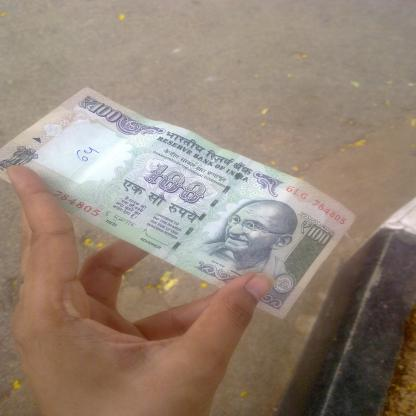Old100Front: (0, 83, 358, 321)
